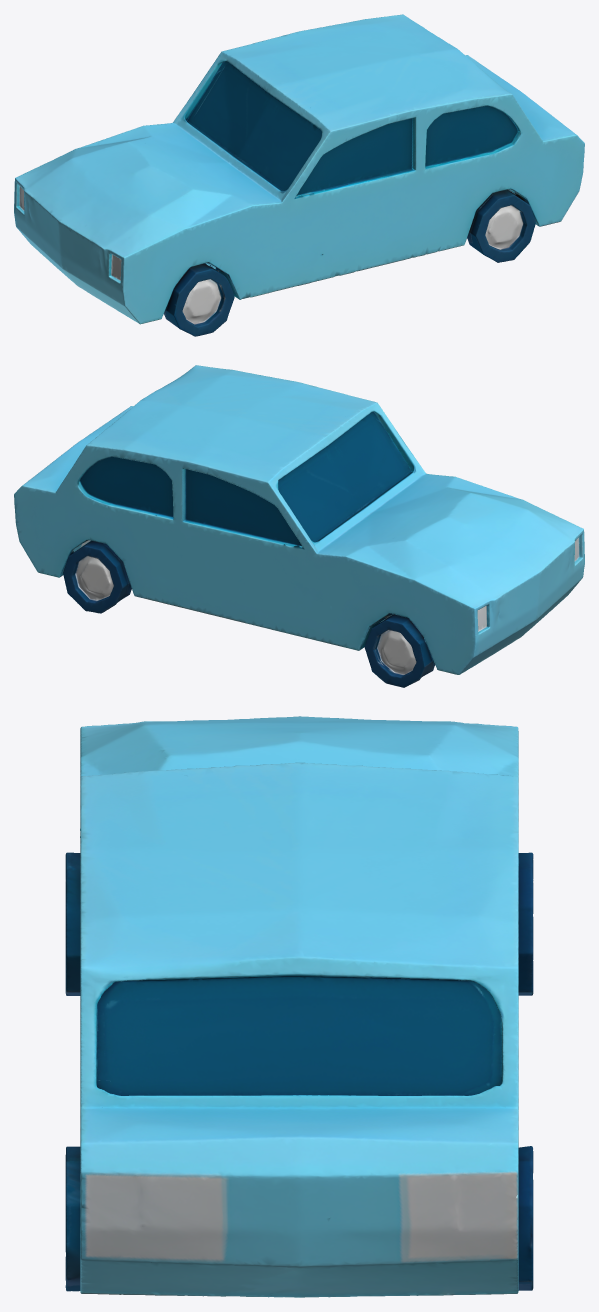
The model's file is Meshy_AI_car_1219023221_texture.fbx.
3 renders of one model, top to bottom at view 1: azimuth 30°, elevation 25°; view 2: azimuth 150°, elevation 25°; view 3: azimuth 270°, elevation 25°, orthographic. The views are drawn at different scales.
Parts seen in each view (by area): view 1: Mesh_0; view 2: Mesh_0; view 3: Mesh_0.
Part boxes in pixels (x1,y1,x2,y2): Mesh_0: [14, 14, 584, 336]; Mesh_0: [14, 365, 584, 687]; Mesh_0: [65, 716, 533, 1297].
Bounding box in the file's own units: 190 × 67.05 × 81.03.
Materials: 1 (1 with a texture image).
